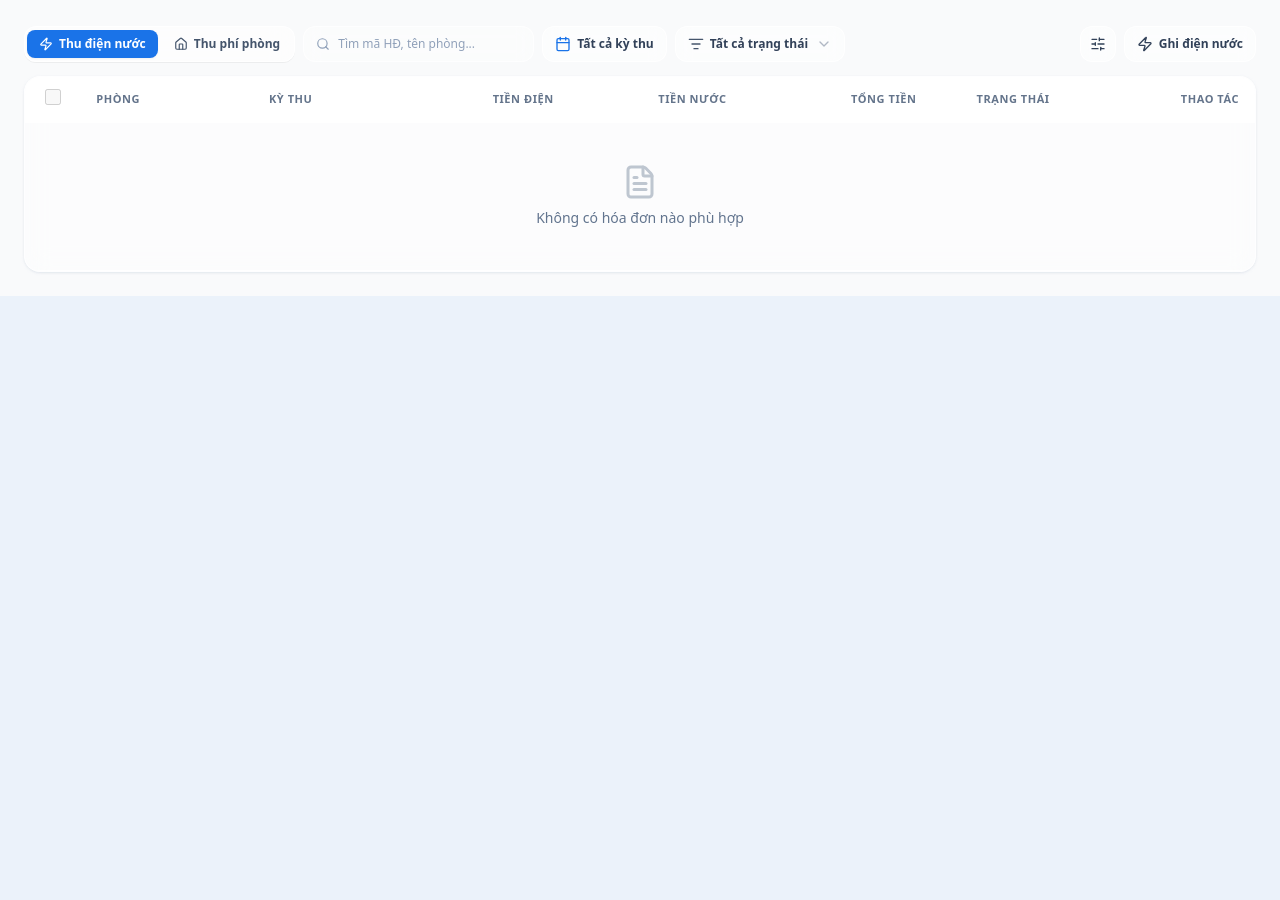
Test: InvoicesPage - Room Specific Utility Tariffs & Modal Configuration › renders invoice page and opens wide configuration modal with room quota & price overrides (AC-01, AC-09)
Click the button named "Cấu hình định mức & đơn giá": (1098, 44) [1080, 26, 1116, 62]
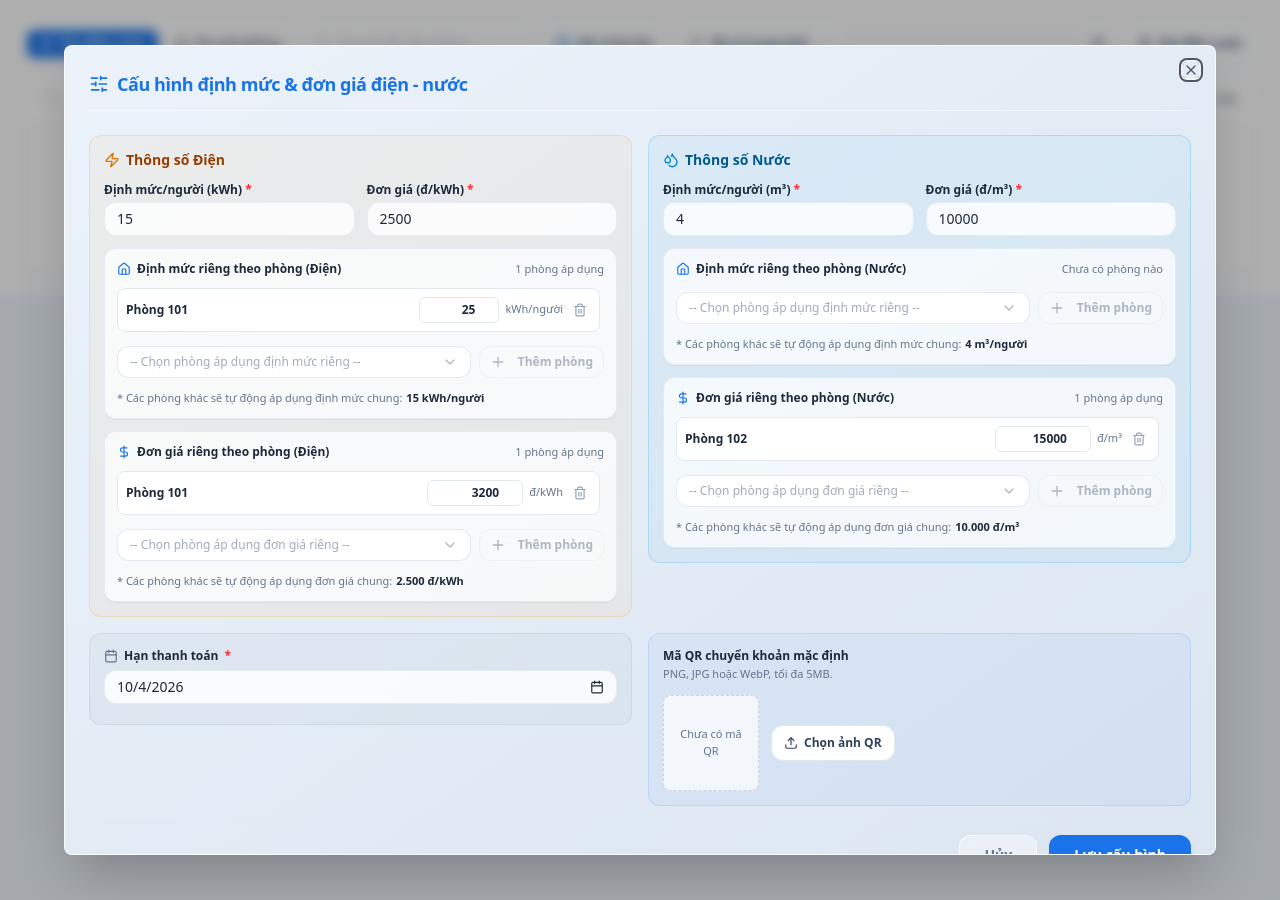
Check: the heading "Cấu hình định mức & đơn giá điện - nước" is shown, box [89, 72, 468, 96]
Check: the text "Thông số Điện" is shown, box [104, 150, 225, 169]
Check: the text "Thông số Nước" is shown, box [663, 150, 791, 169]
